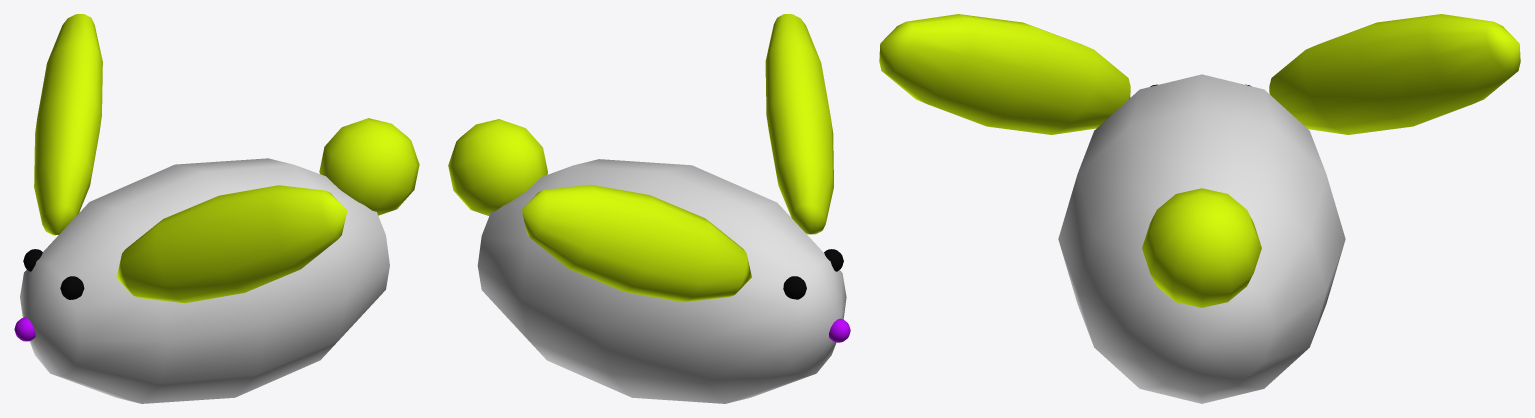
File: Lapin 1.FBX
The picture shows the model from 3 angles, left to right: view 1: azimuth 30°, elevation 25°; view 2: azimuth 150°, elevation 25°; view 3: azimuth 270°, elevation 25°; orthographic projection. The views are drawn at different scales.
Visible parts, largest first — view 1: Sphère001; view 2: Sphère001; view 3: Sphère001.
Part boxes in pixels (x1,y1,x2,y2): Sphère001: (14, 14, 419, 403); Sphère001: (448, 14, 850, 403); Sphère001: (879, 14, 1520, 403).
Size of the model in its own units: 104 by 122 by 72.48.
